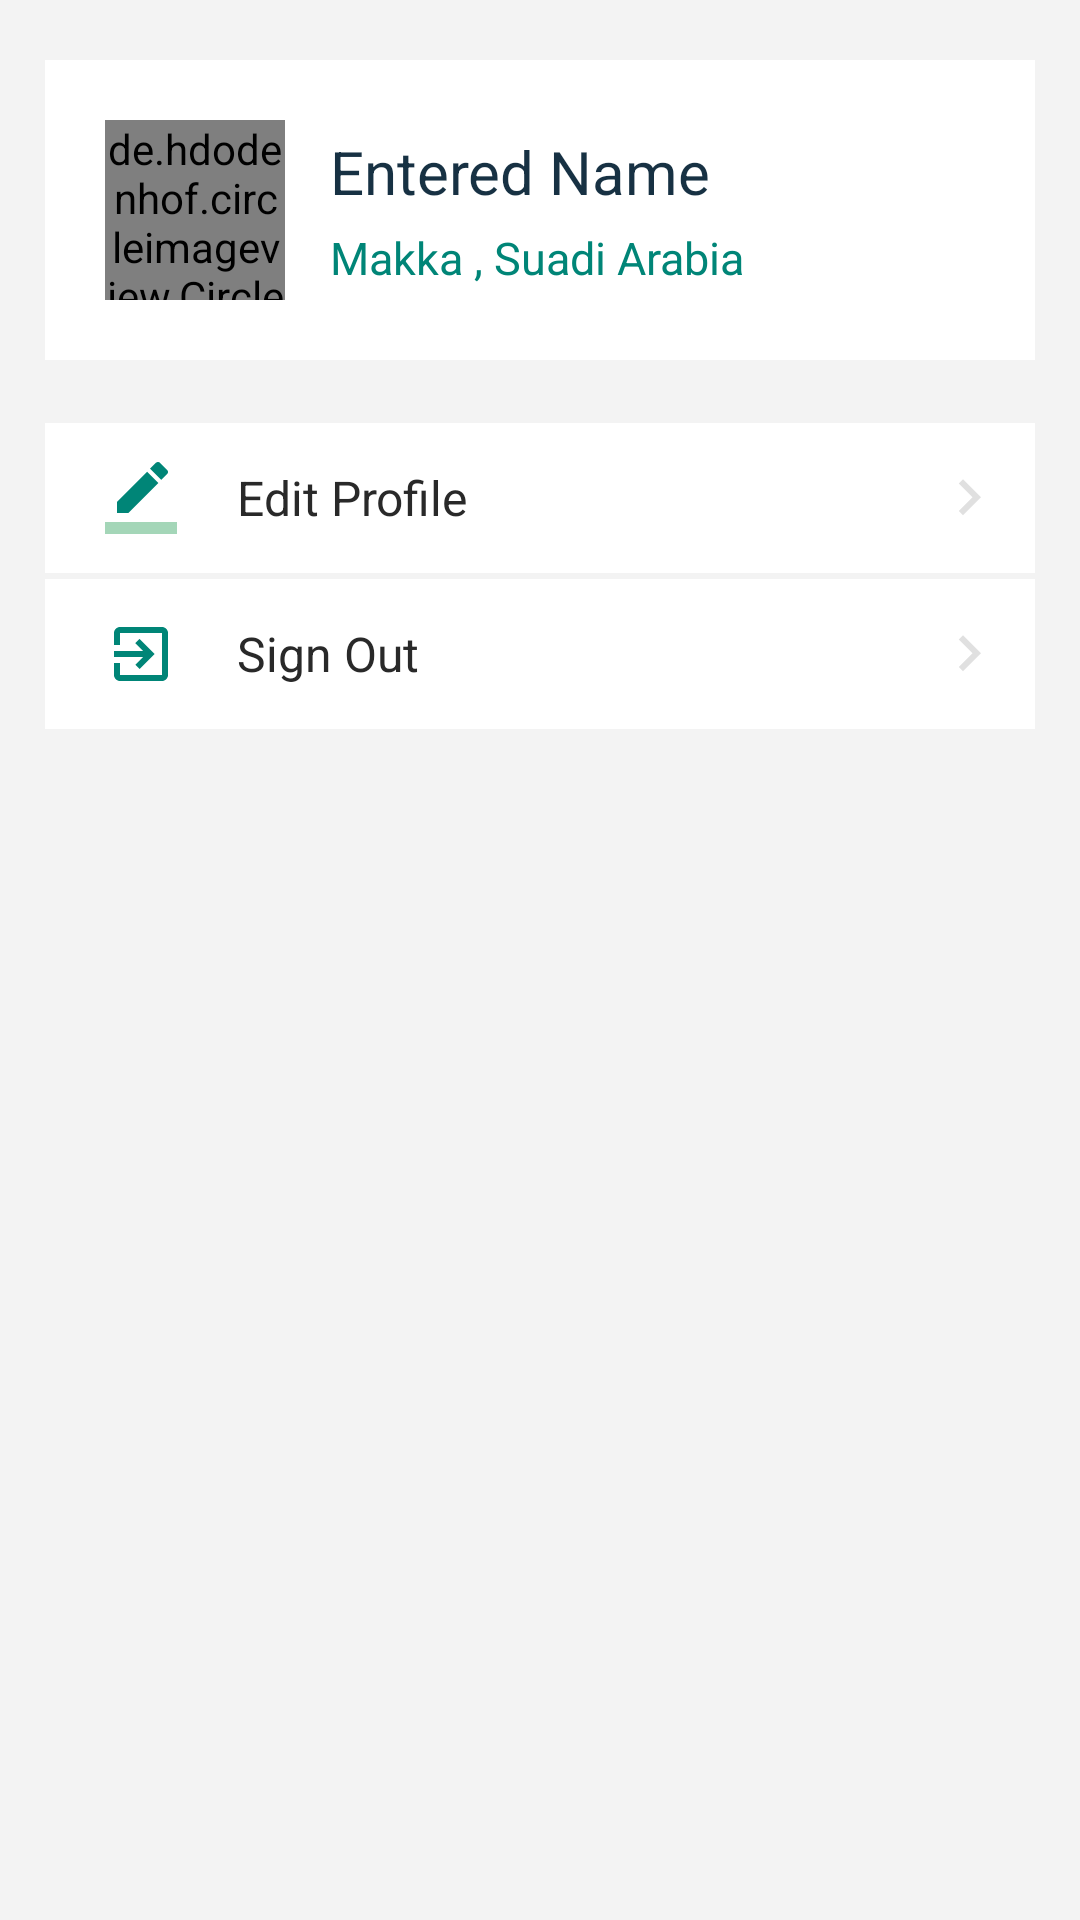

Where icons sit on this 1080px×1920px app screen, as {"x1": x1, "y1": y1, "x2": x2, "y2": y2}:
exit to app: {"x1": 114, "y1": 627, "x2": 168, "y2": 681}
keyboard arrow right: {"x1": 959, "y1": 480, "x2": 980, "y2": 514}, {"x1": 959, "y1": 636, "x2": 980, "y2": 670}
